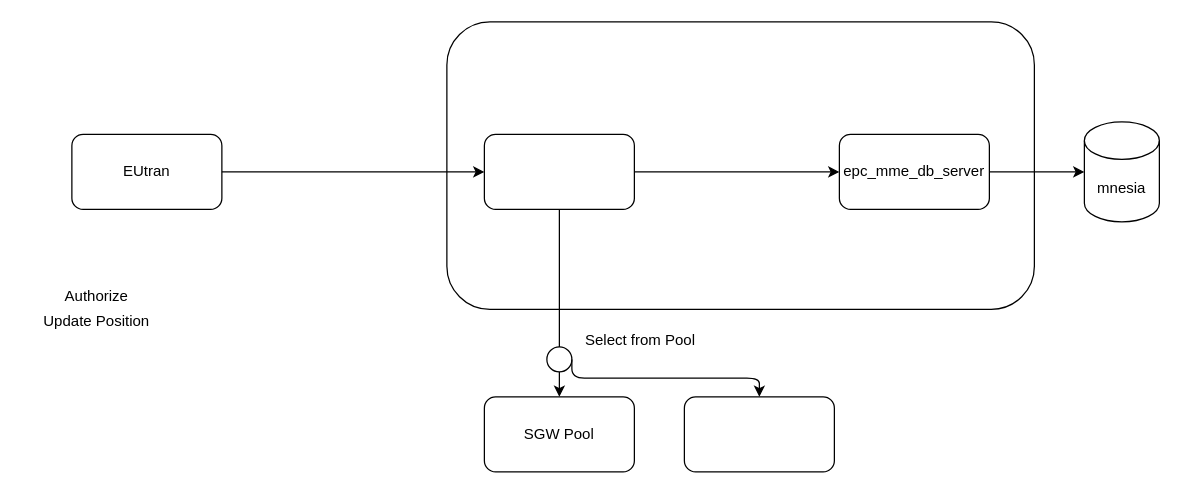
This 1181x494 diagram has some shape labels left out. Each missing label, with the centre of its shape:
"epc_mme_server" goes at [558,171].
"PGW Pool" goes at [758,434].
